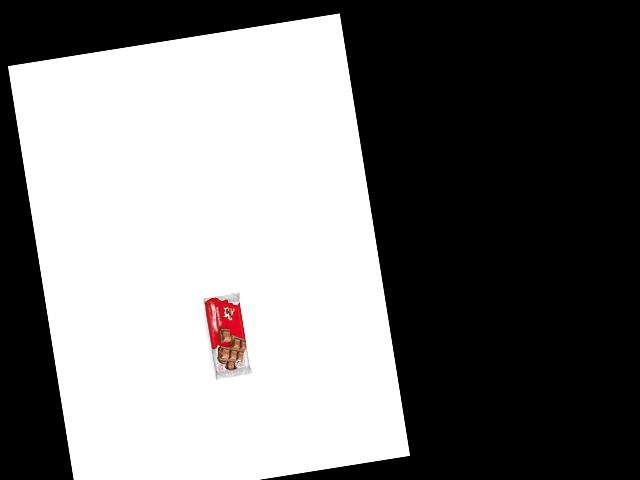chocolate: (202, 291, 253, 382)
